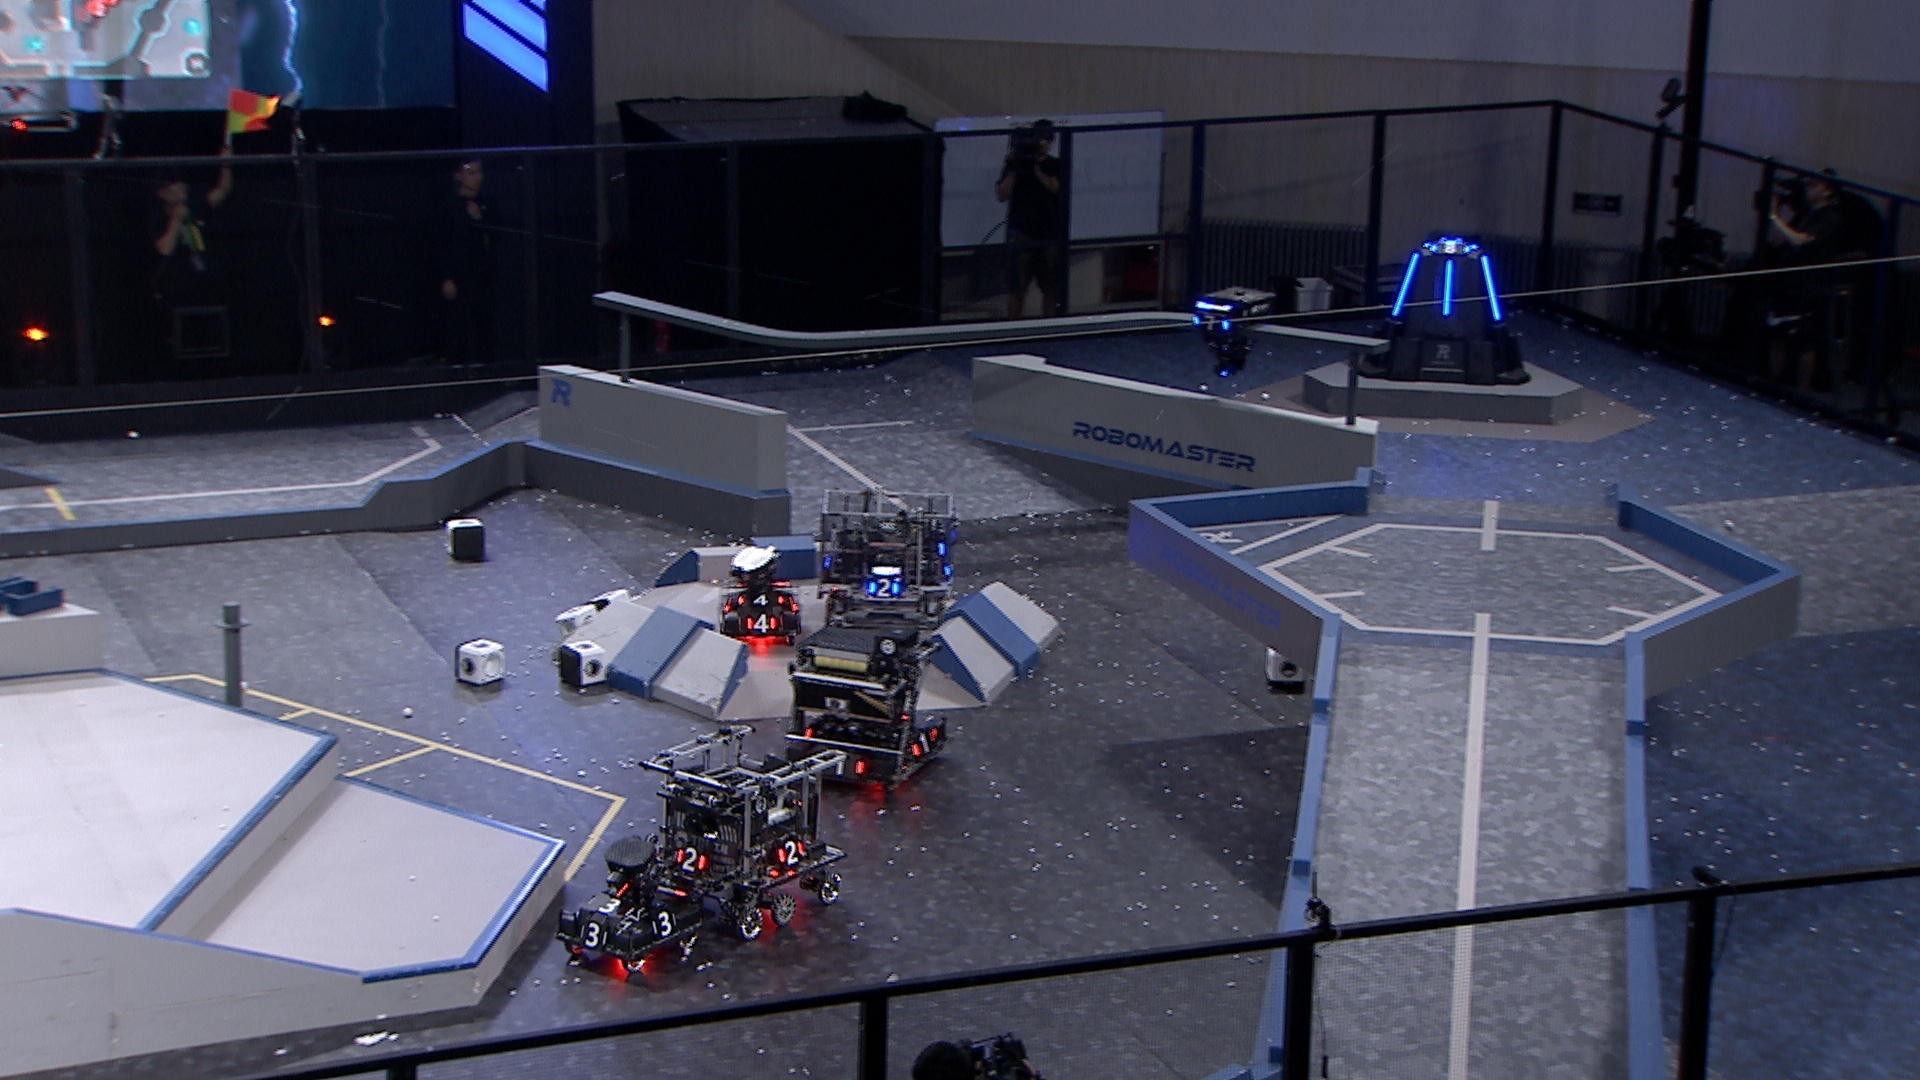armor: (1391, 252, 1424, 320), (1480, 253, 1505, 324), (588, 894, 637, 916), (673, 847, 711, 874), (647, 907, 680, 938), (735, 589, 787, 608), (909, 728, 938, 761), (578, 920, 611, 949), (773, 840, 806, 866), (1441, 258, 1456, 318), (866, 578, 901, 603), (1191, 313, 1230, 334), (1429, 239, 1472, 258), (744, 615, 781, 636), (829, 760, 866, 781)
base: (1358, 235, 1532, 386)
car: (636, 725, 849, 940), (782, 618, 949, 796), (556, 835, 709, 972), (814, 485, 953, 629), (717, 546, 802, 647)
watcher: (1187, 285, 1273, 380)
